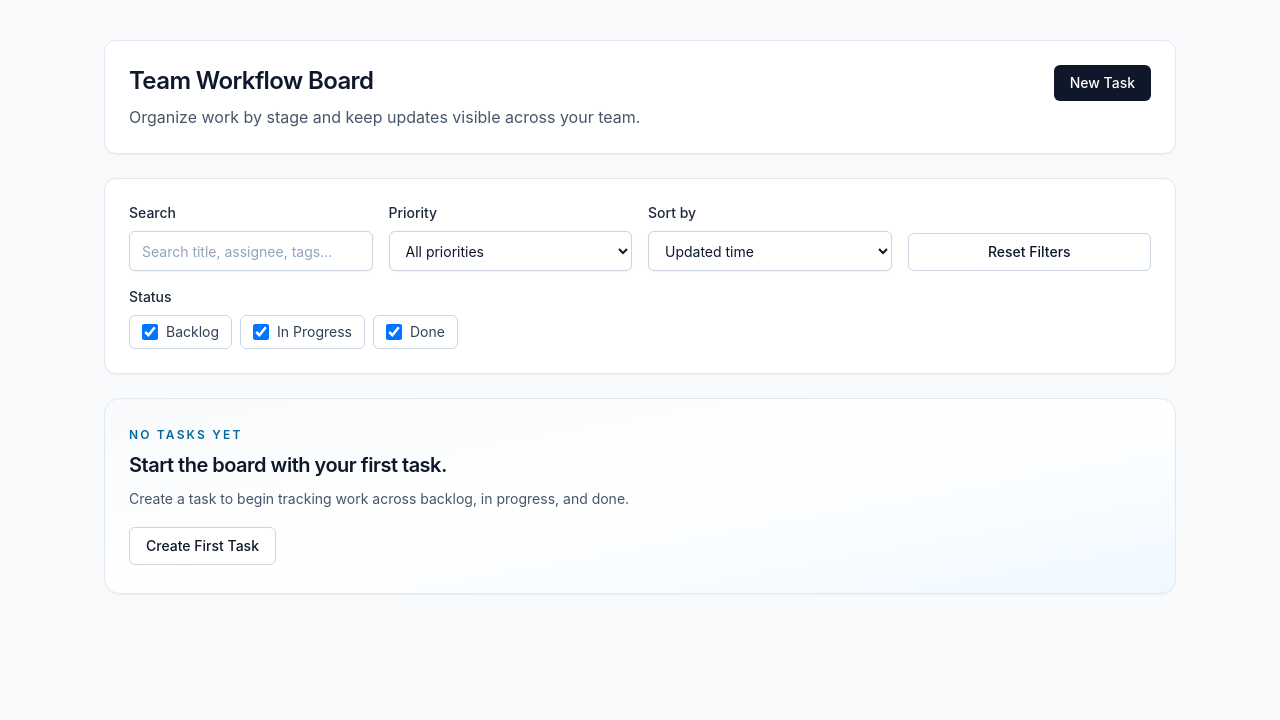
Test case: TaskBoardPage › creates a task and shows it in the backlog board column
The width and height of the screenshot is (1280, 720).
Step 1. Click the button "New Task" → click(1102, 83), box [1054, 65, 1151, 101]
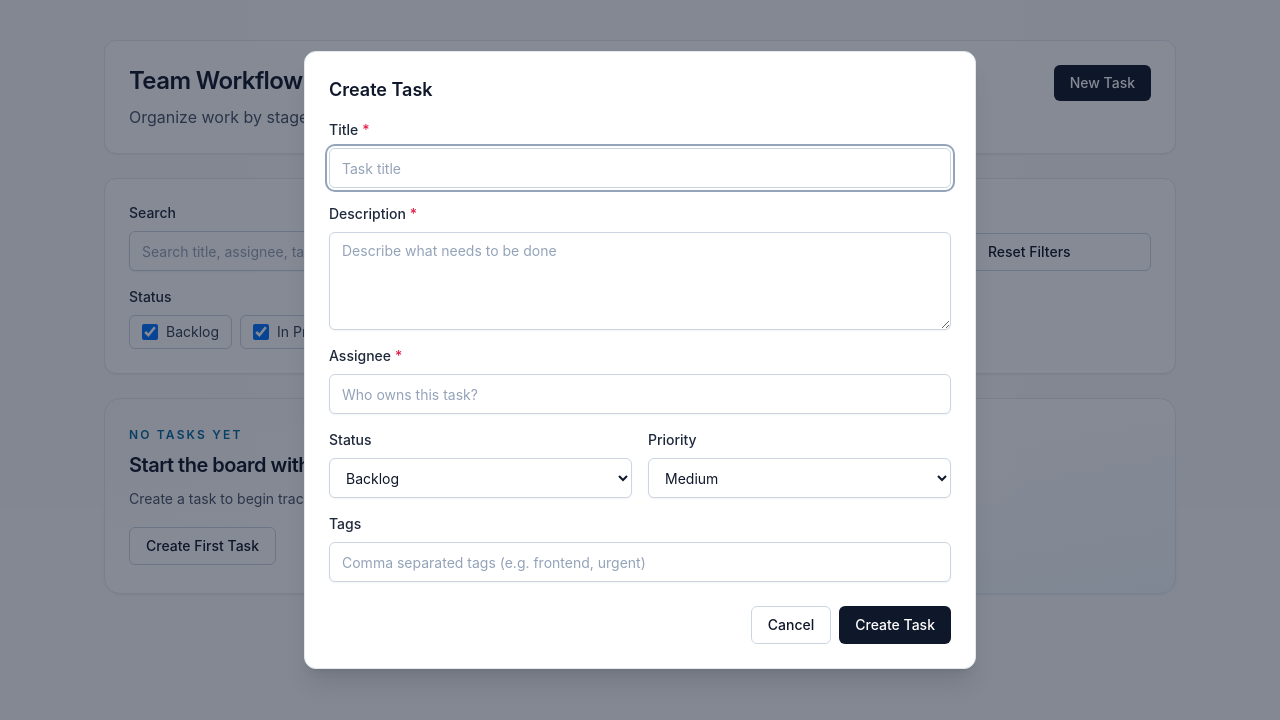
Now the dialog is shown, box [304, 51, 976, 669]
Step 2. Type "Prepare release checklist" into the field labelled "Title*" → (640, 168), box [329, 148, 951, 188]
Step 3. Type "List the final QA and rollout steps" into the text box labelled "Description*" → (640, 281), box [329, 232, 951, 330]
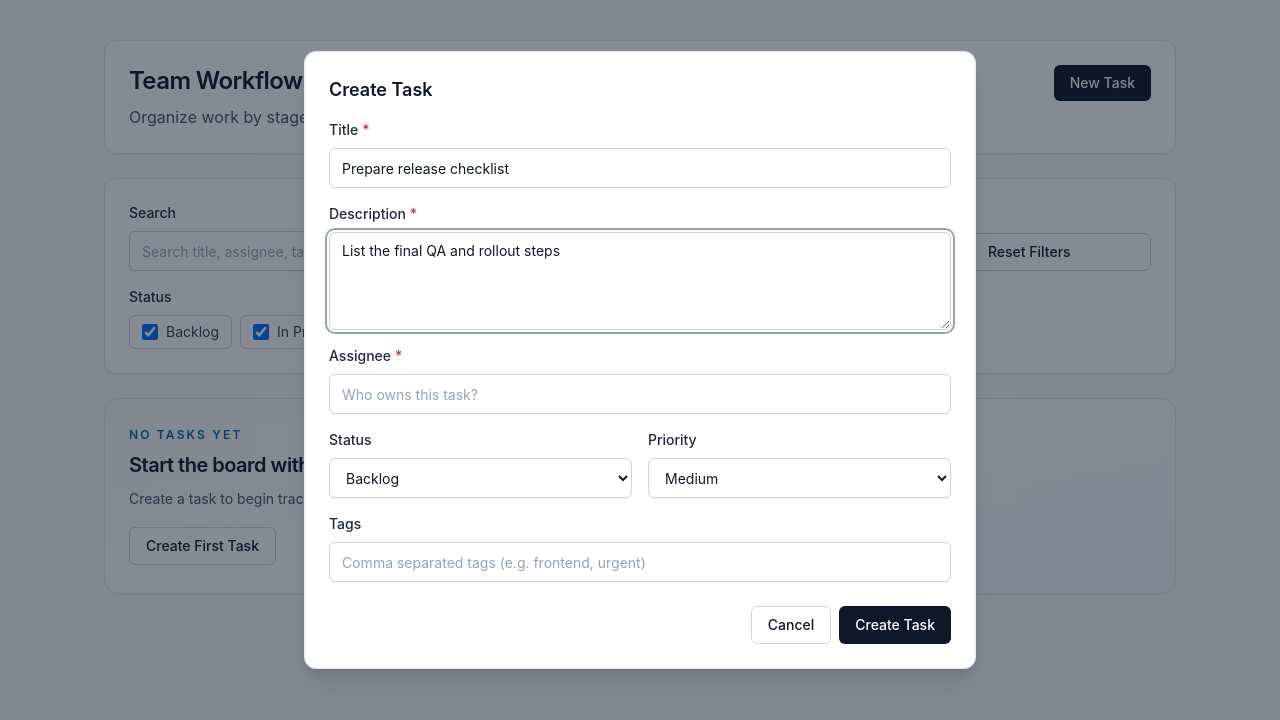
Step 4. Type "Avery" into the field labelled "Assignee*" → (640, 394), box [329, 374, 951, 414]
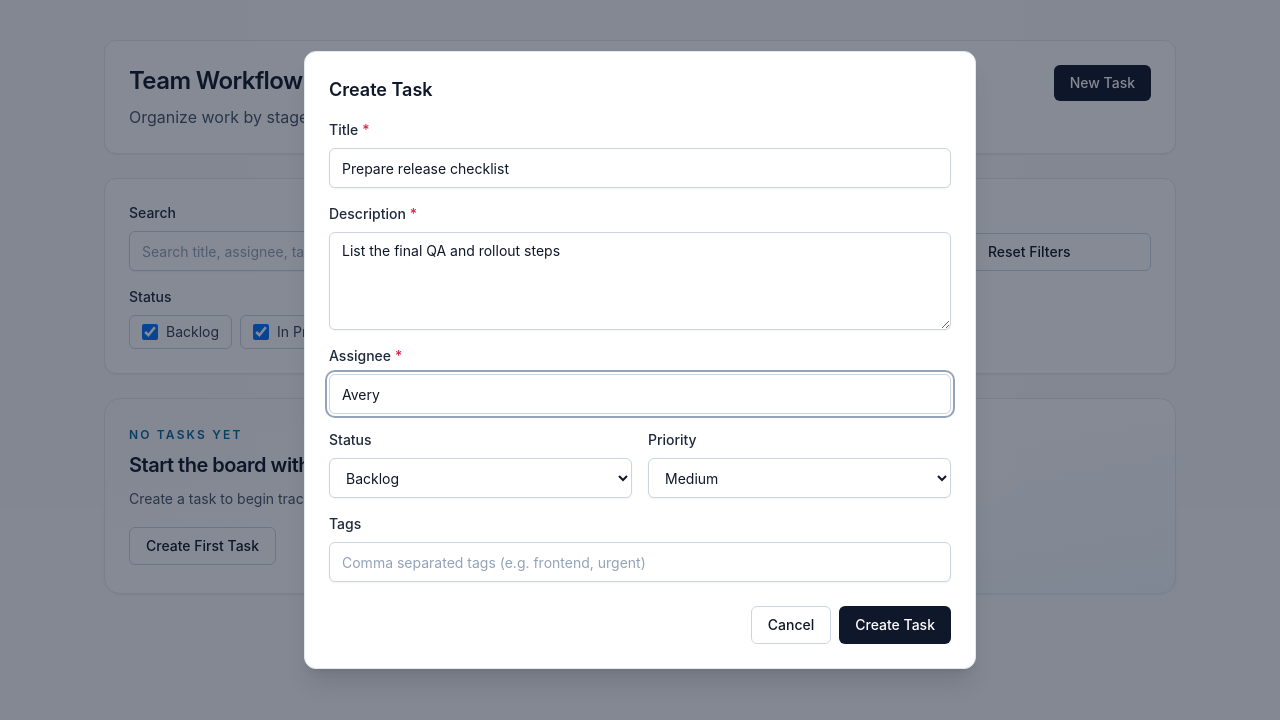
Step 5. Select "High" in the dropdown labelled "Priority" → (800, 478), box [648, 458, 951, 498]
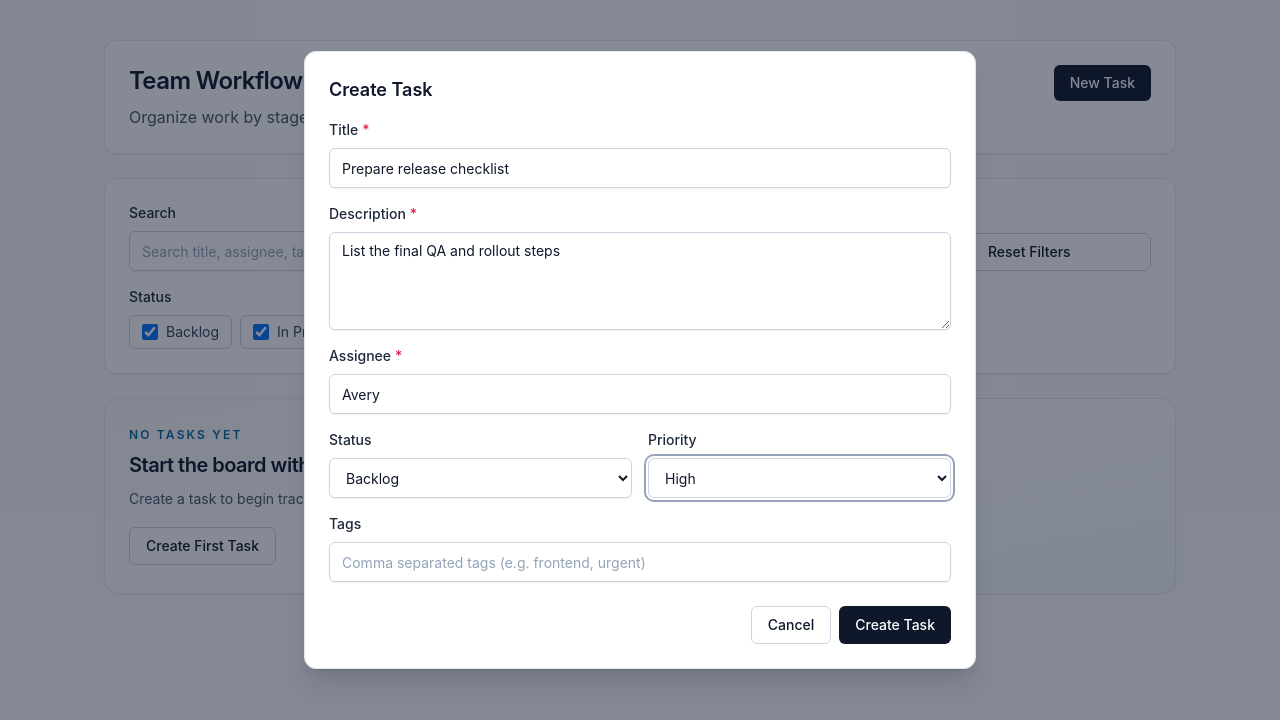
Step 6. Type "release, qa" into the field labelled "Tags" → (640, 562), box [329, 542, 951, 582]
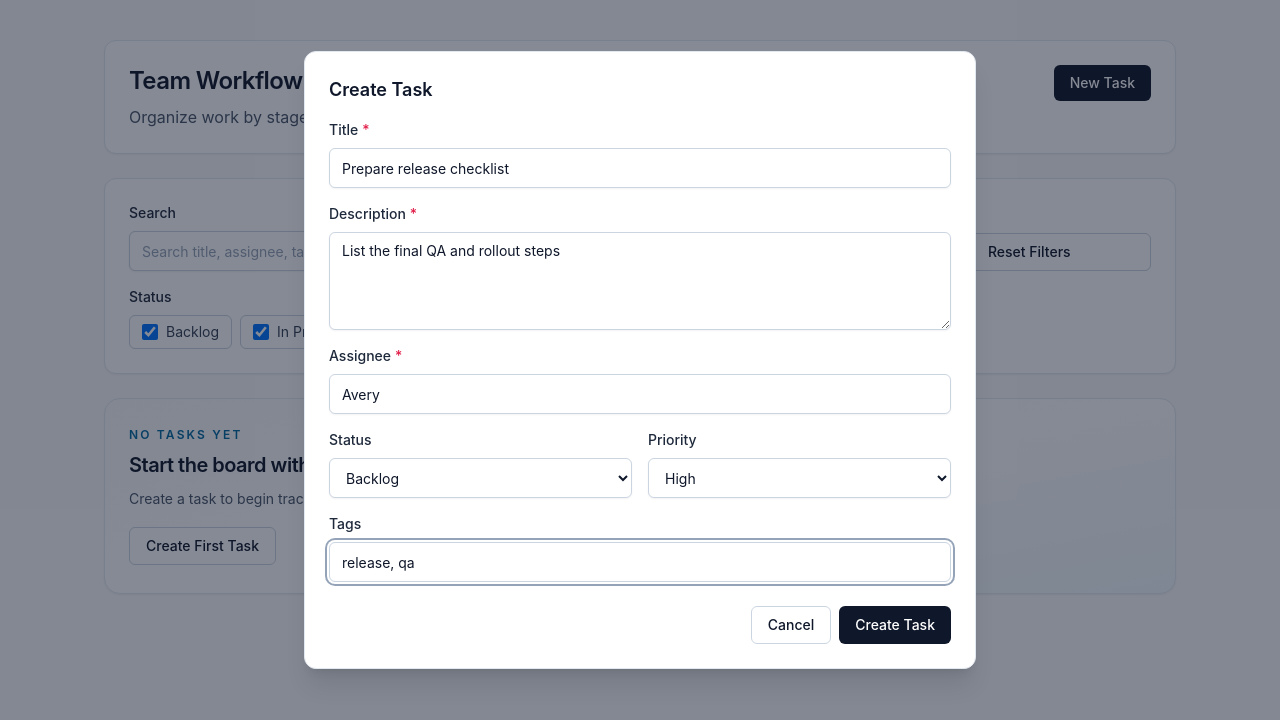
Step 7. Click the button "Create Task" → click(895, 625), box [839, 606, 951, 644]
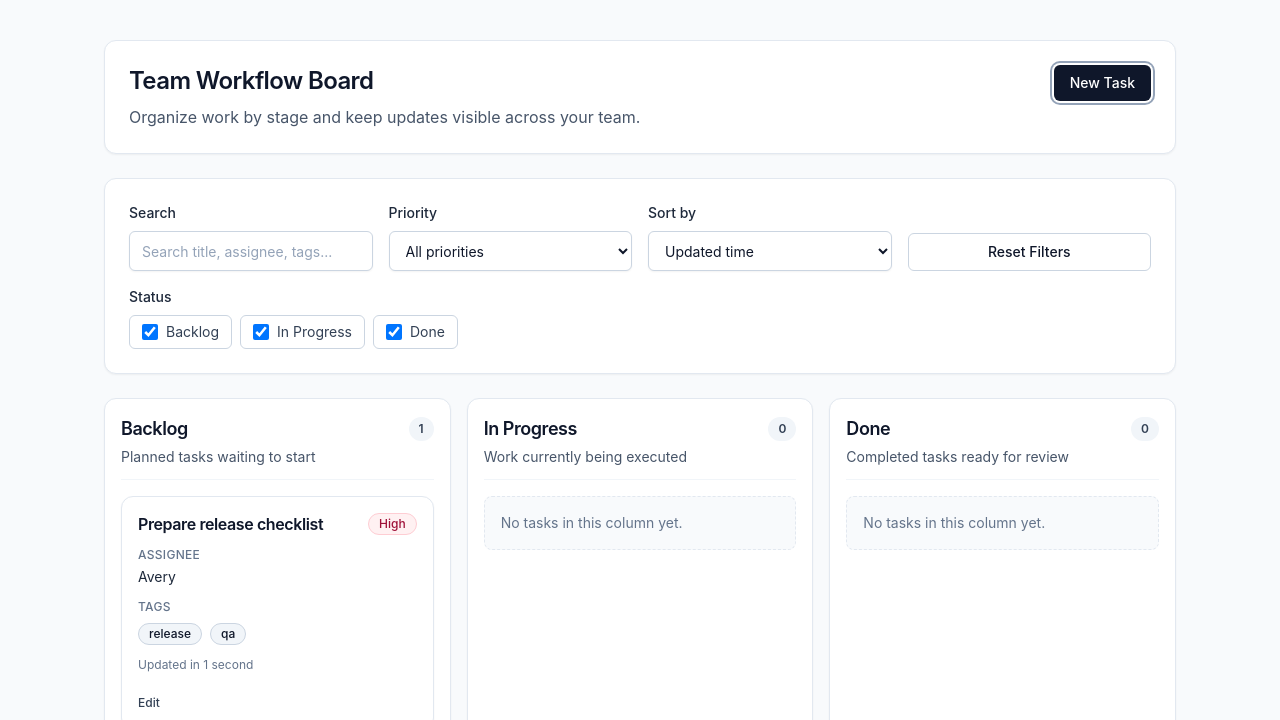
Now the dialog is gone
Now the heading "Prepare release checklist" is shown, box [138, 513, 323, 535]
Now the text "Avery" is shown, box [138, 568, 176, 585]
